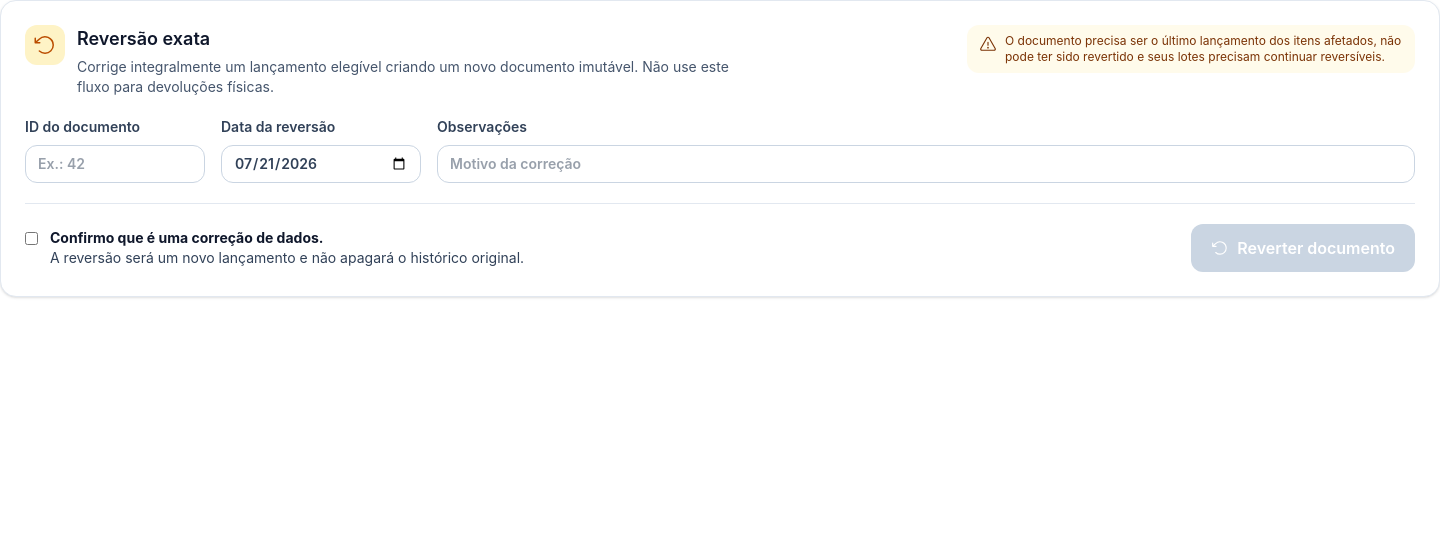
ExactReversalForm › creates an explicitly confirmed exact reversal
The image size is (1440, 551).
Type "42" into the field labelled "ID do documento". click: (115, 164)
box: [25,145,205,183]
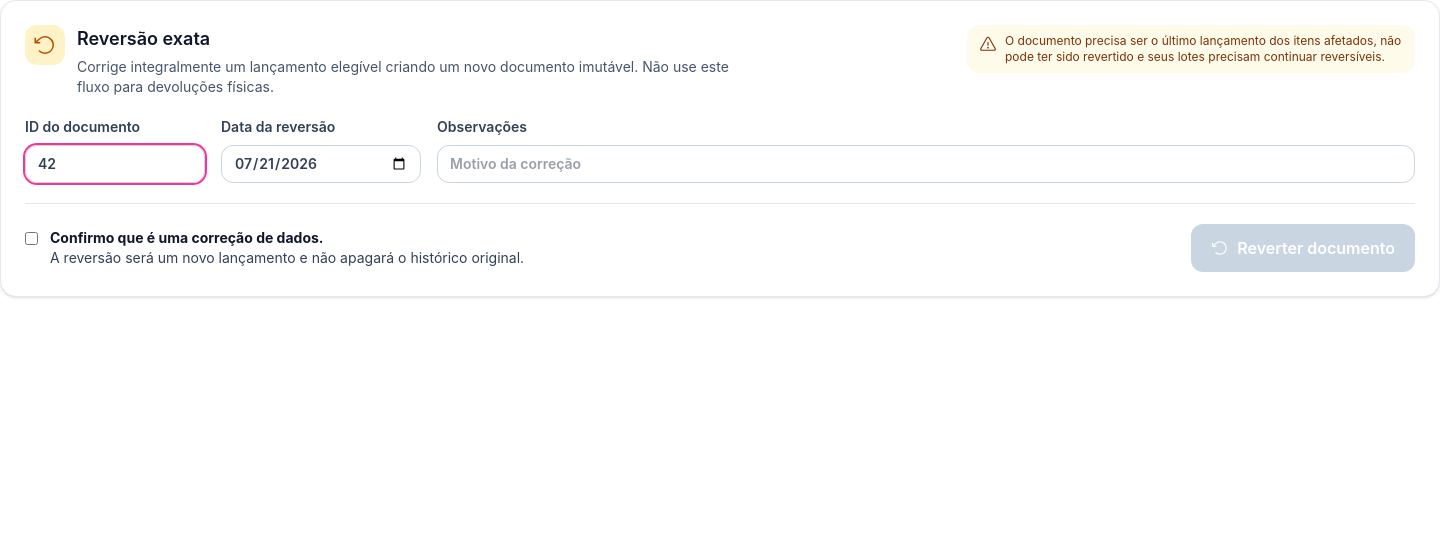
Type "Correção de lançamento" into the field labelled "Observações". click: (926, 164)
box: [437,145,1415,183]
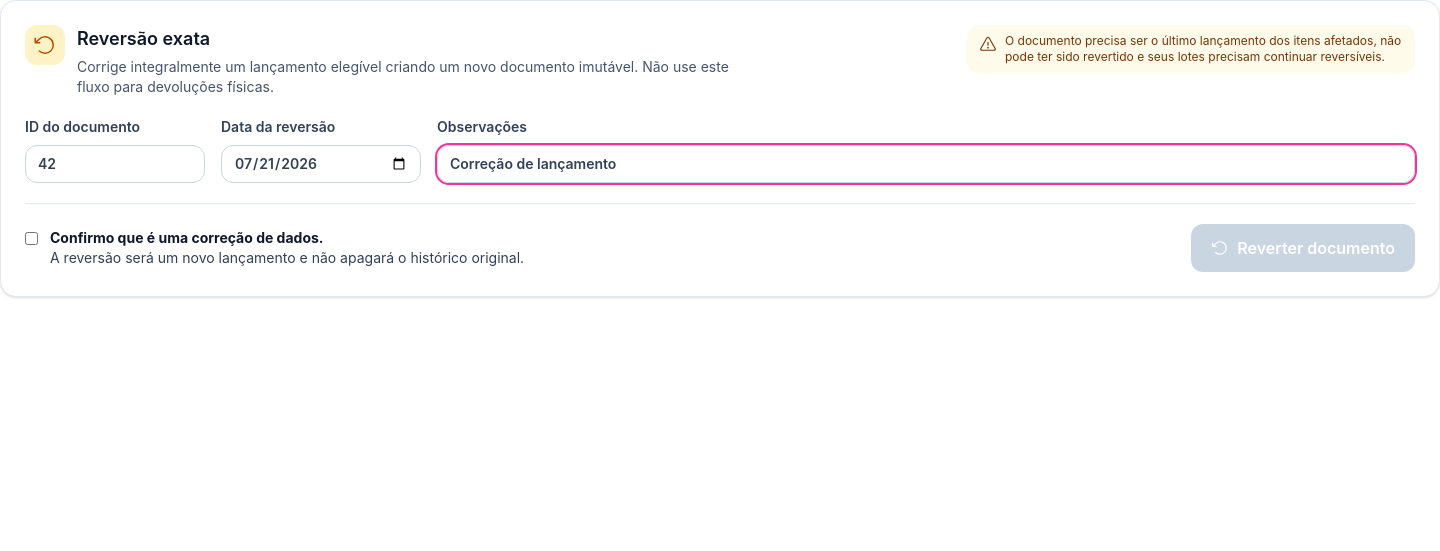
Click the checkbox labelled "Confirmo que é uma correção de dados". click: click(32, 238)
box: [25,232,38,245]
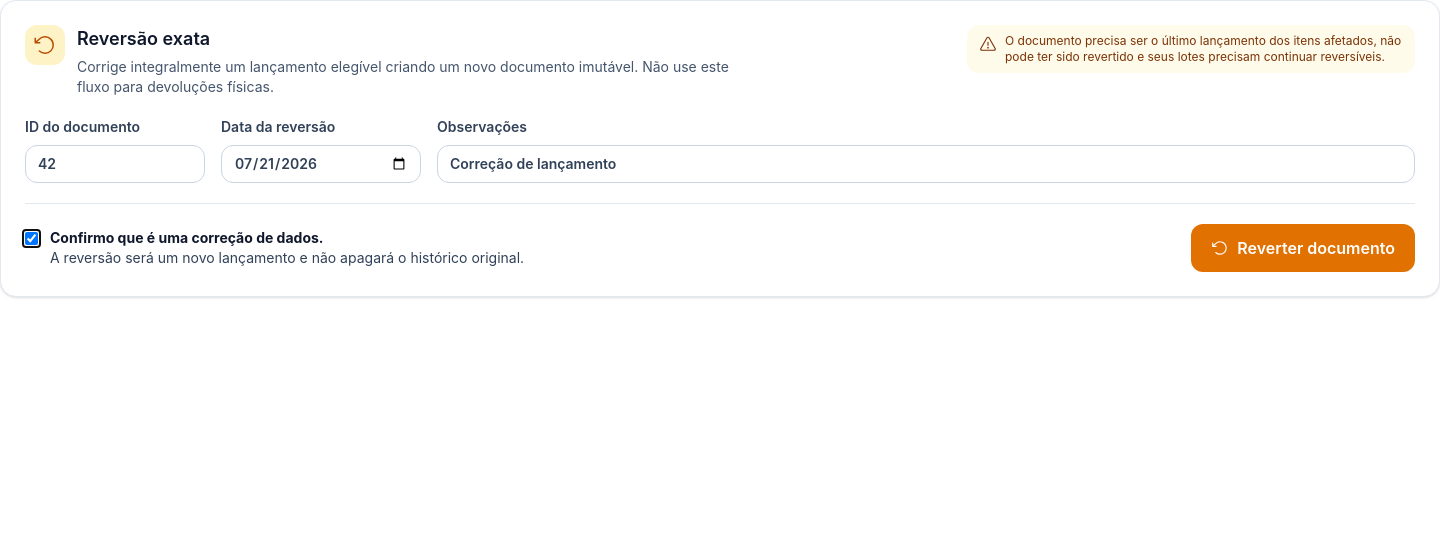
Click the button "Reverter documento". click: click(1303, 248)
box: [1191,224,1415,272]
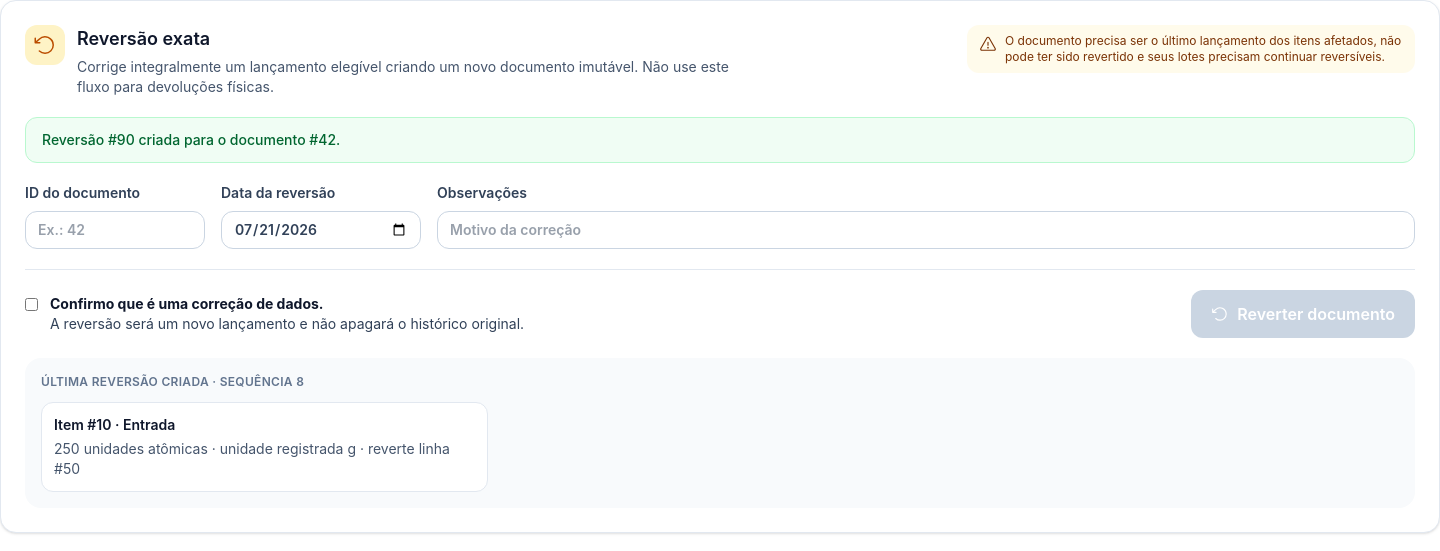
Expected: the text "Reversão #90 criada para o documento #42." is shown, [25,117,1415,163]
Expected: the text "Item #10 · Entrada" is shown, [54,416,175,433]
Expected: the text "reverte linha #50" is shown, [54,439,475,479]
